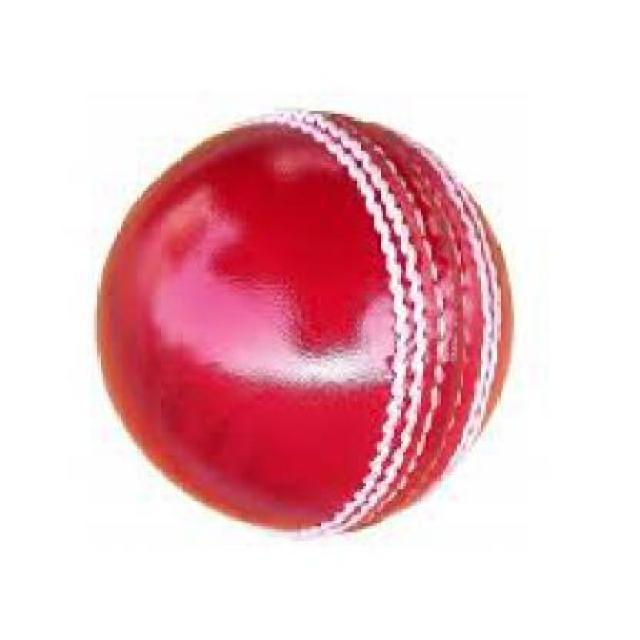-: (128, 146, 497, 511)
